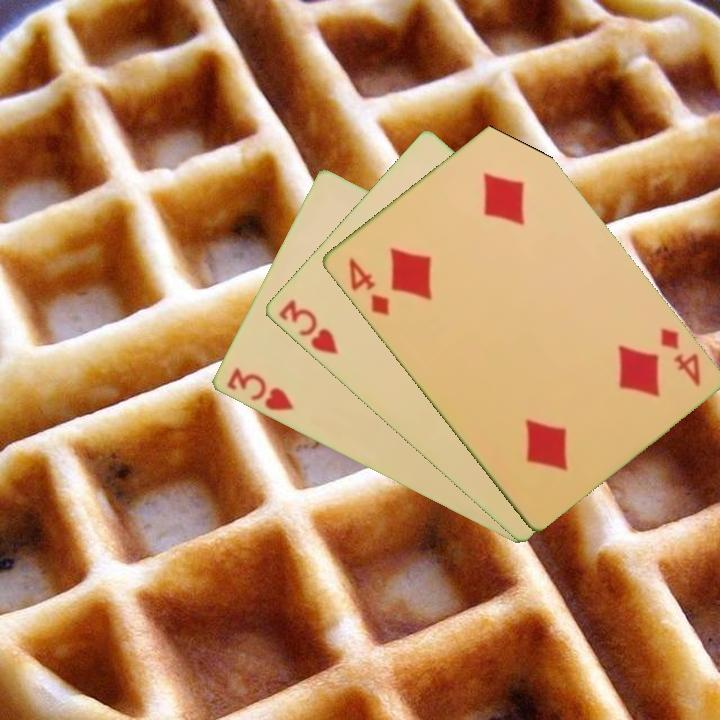3h: (274, 295, 342, 358), (223, 364, 296, 414)
4d: (344, 254, 392, 319), (656, 324, 703, 389)
